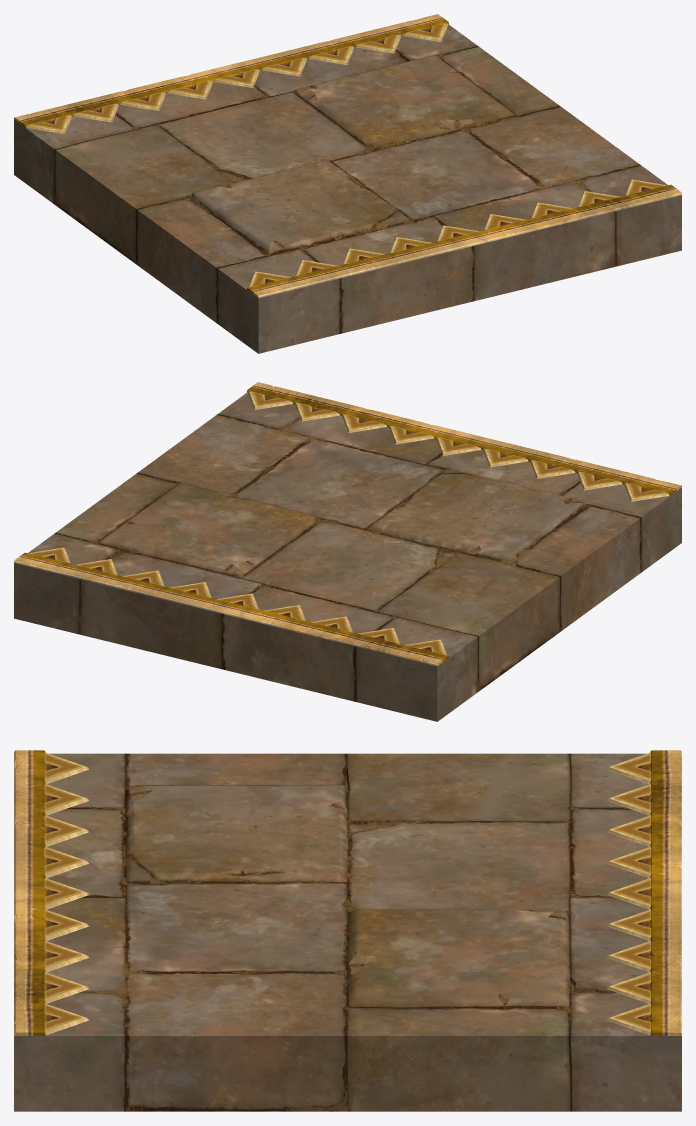
3 renders of one model, top to bottom at view 1: azimuth 30°, elevation 25°; view 2: azimuth 150°, elevation 25°; view 3: azimuth 270°, elevation 25°, orthographic. The views are drawn at different scales.
Parts seen in each view (by area): view 1: SM_Vault_4m_Floor_01_v1_LOD0; view 2: SM_Vault_4m_Floor_01_v1_LOD0; view 3: SM_Vault_4m_Floor_01_v1_LOD0.
Boxes of the visible parts, box(x1,y1,x2,y2) form: SM_Vault_4m_Floor_01_v1_LOD0: box(14, 14, 681, 353); SM_Vault_4m_Floor_01_v1_LOD0: box(14, 382, 681, 721); SM_Vault_4m_Floor_01_v1_LOD0: box(14, 750, 681, 1111).
Bounding box in the file's own units: 4 × 0.543 × 4.
Materials: 4 (4 with a texture image).
